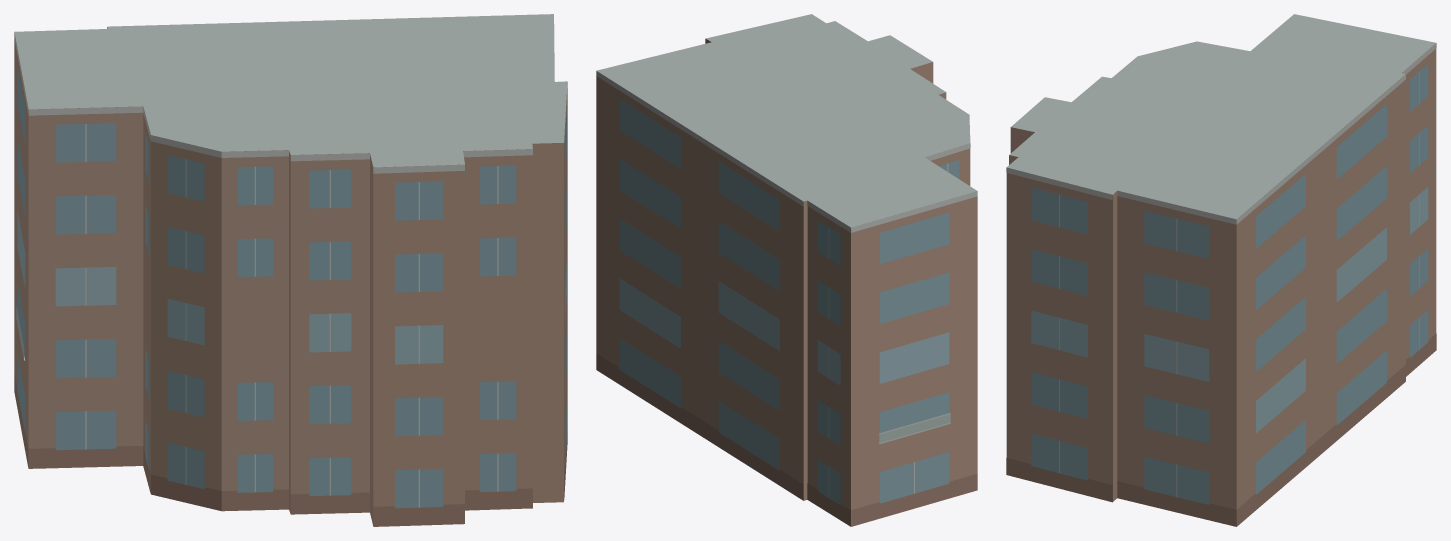
The model's file is survey-upis-32660597.glb.
3 views of the same model, side by side, from view 1: azimuth 30°, elevation 25°; view 2: azimuth 150°, elevation 25°; view 3: azimuth 270°, elevation 25° (orthographic). The views are drawn at different scales.
Parts seen in each view (by area): view 1: survey-upis-32660597.tmp; view 2: survey-upis-32660597.tmp; view 3: survey-upis-32660597.tmp.
Part boxes in pixels (box(x1,y1,x2,y2)): survey-upis-32660597.tmp: box(14, 14, 567, 526); survey-upis-32660597.tmp: box(596, 14, 977, 526); survey-upis-32660597.tmp: box(1006, 14, 1436, 526).
Bounding box in the file's own units: 19.91 × 13.9 × 17.61.
